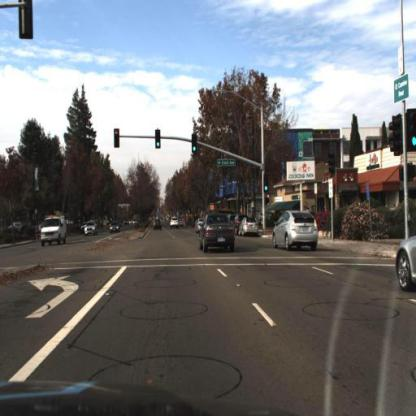car: (274, 210, 318, 253), (199, 212, 238, 254), (393, 229, 416, 293), (38, 214, 69, 250), (39, 213, 67, 249), (236, 212, 261, 240), (238, 216, 259, 239), (192, 215, 210, 238), (83, 220, 99, 242), (83, 218, 100, 238), (153, 217, 168, 235), (170, 216, 181, 232), (264, 174, 273, 193)
trafficLight-Green: (191, 131, 199, 162), (155, 126, 163, 151), (263, 181, 272, 196), (192, 140, 200, 156), (155, 139, 162, 154)
trafficLight-Red: (115, 128, 121, 146)
trafficLight-RedLeft: (113, 127, 120, 150)
